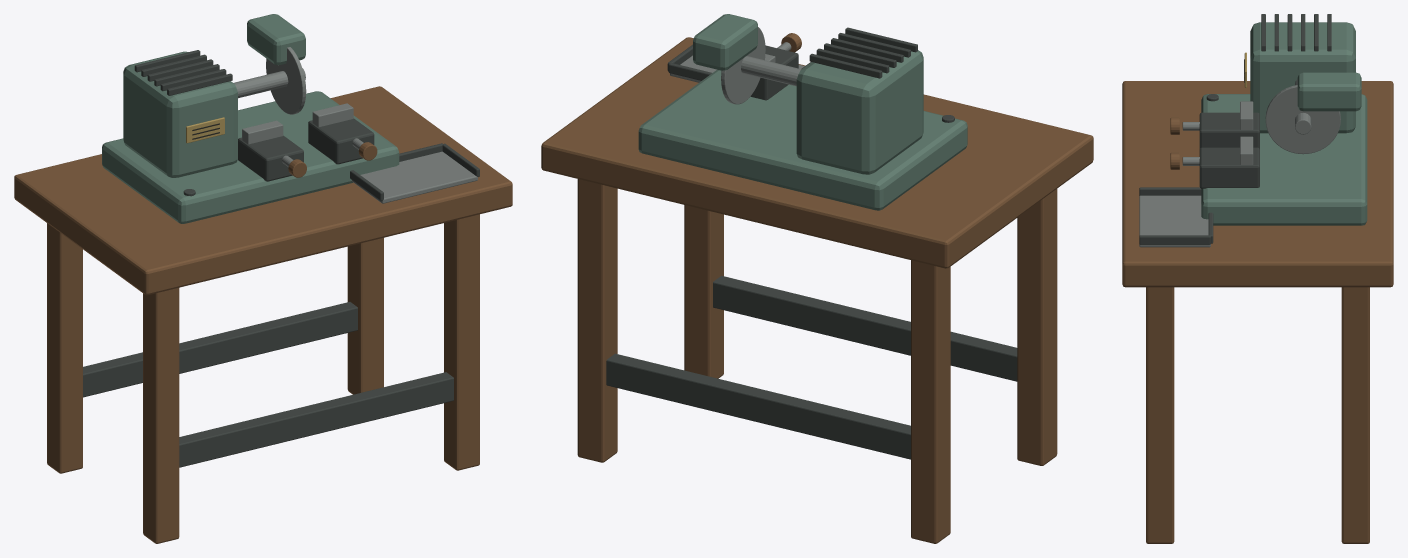
File: KeyMachine.fbx
The picture shows the model from 3 angles, left to right: view 1: azimuth 30°, elevation 25°; view 2: azimuth 150°, elevation 25°; view 3: azimuth 270°, elevation 25°; orthographic projection. The views are drawn at different scales.
Visible parts, largest first — view 1: Worktop, Cast base, Bench leg, Motor casing, Bench leg.002, Bench brace, Bench leg.001, Bench brace.001, Bench leg.003, Receiving tray, Wheel guard, Vice carriage.001 (+6 smaller); view 2: Worktop, Cast base, Motor casing, Bench leg.001, Bench leg.003, Bench leg, Bench brace.001, Bench brace, Bench leg.002, Wheel guard, Cutting disc, Spindle (+2 smaller); view 3: Worktop, Cast base, Bench leg.002, Bench leg.003, Motor casing, Cutting disc, Receiving tray, Wheel guard, Vice carriage.001, Vice carriage, Tray edge.001, Tray edge (+3 smaller).
Boxes of the visible parts, box(x1,y1,x2,y2) form: Worktop: box(14, 86, 512, 295); Cast base: box(102, 91, 399, 223); Bench leg: box(143, 288, 179, 543); Motor casing: box(123, 51, 237, 177); Bench leg.002: box(444, 214, 479, 470); Bench brace: box(179, 372, 453, 467); Bench leg.001: box(47, 223, 82, 473); Bench brace.001: box(83, 302, 357, 397); Bench leg.003: box(347, 237, 383, 394); Receiving tray: box(352, 151, 477, 203); Wheel guard: box(247, 14, 305, 65); Vice carriage.001: box(308, 118, 374, 164); Worktop: box(541, 37, 1093, 268); Cast base: box(638, 69, 967, 210); Motor casing: box(796, 50, 923, 174); Bench leg.001: box(911, 260, 950, 543); Bench leg.003: box(577, 179, 617, 462); Bench leg: box(1017, 189, 1057, 465); Bench brace.001: box(606, 353, 910, 459); Bench brace: box(713, 275, 1017, 381); Bench leg.002: box(684, 205, 723, 378); Wheel guard: box(693, 14, 757, 70); Cutting disc: box(721, 27, 765, 104); Spindle: box(741, 56, 801, 86); Worktop: box(1122, 81, 1393, 287); Cast base: box(1201, 94, 1367, 225); Bench leg.002: box(1146, 287, 1174, 543); Bench leg.003: box(1341, 287, 1369, 543); Motor casing: box(1250, 22, 1355, 133); Cutting disc: box(1265, 85, 1340, 154); Receiving tray: box(1139, 195, 1210, 247); Wheel guard: box(1297, 72, 1361, 111); Vice carriage.001: box(1199, 147, 1259, 188); Vice carriage: box(1199, 112, 1259, 149); Tray edge.001: box(1139, 235, 1210, 244); Tray edge: box(1139, 187, 1201, 195).
Bounding box in the file's own units: 115 × 120 × 72.
